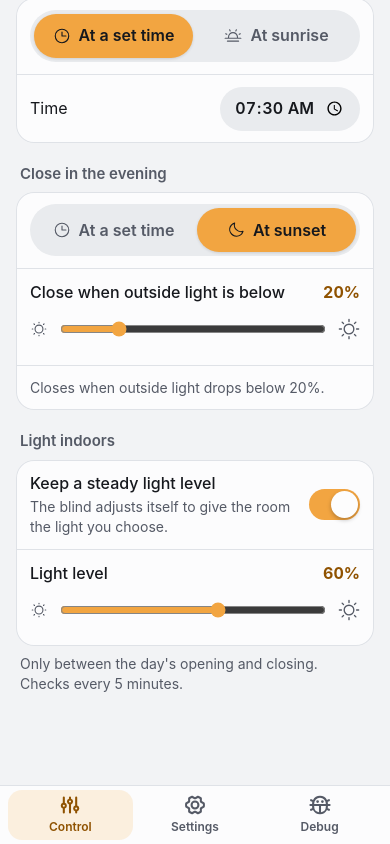
Test case: HomePage and SettingsPage › stages indoor light level and clamped inline outdoor thresholds while in automatic mode
Later steps or results of the test are not shown.
(page scrolled)
Set the slider labelled "Light level" to "70" at (243, 610), box [60,588,326,632]
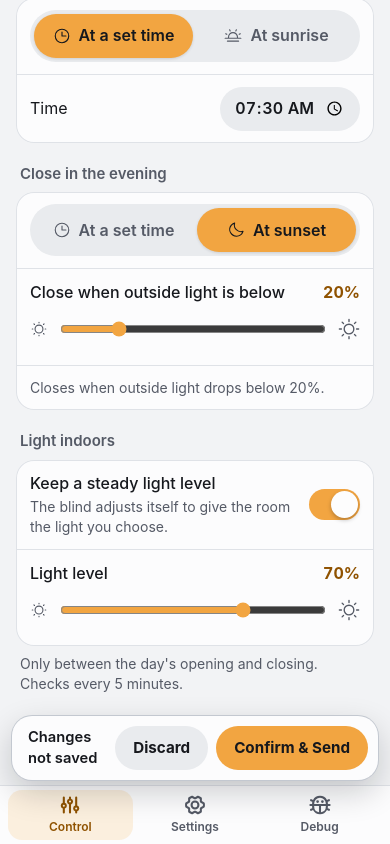
Set the slider labelled "Close when outside light is below" to "45" at (182, 329), box [60,307,326,351]
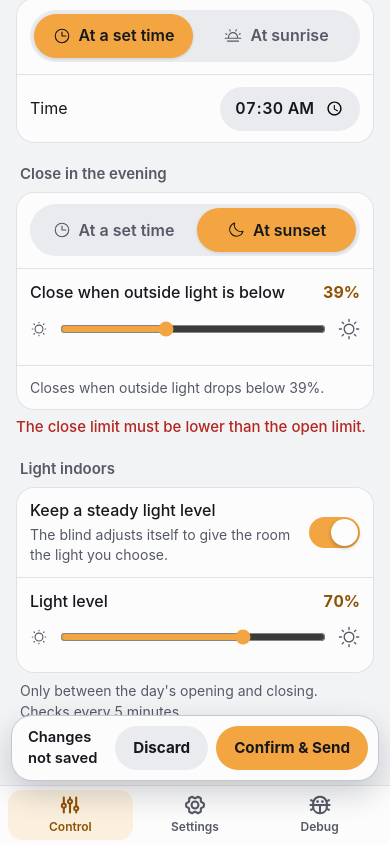
Now the slider labelled "Close when outside light is below" holds "39", box [60,307,326,351]
Now the message shows "must be lower than the open limit", box [16,417,366,436]
